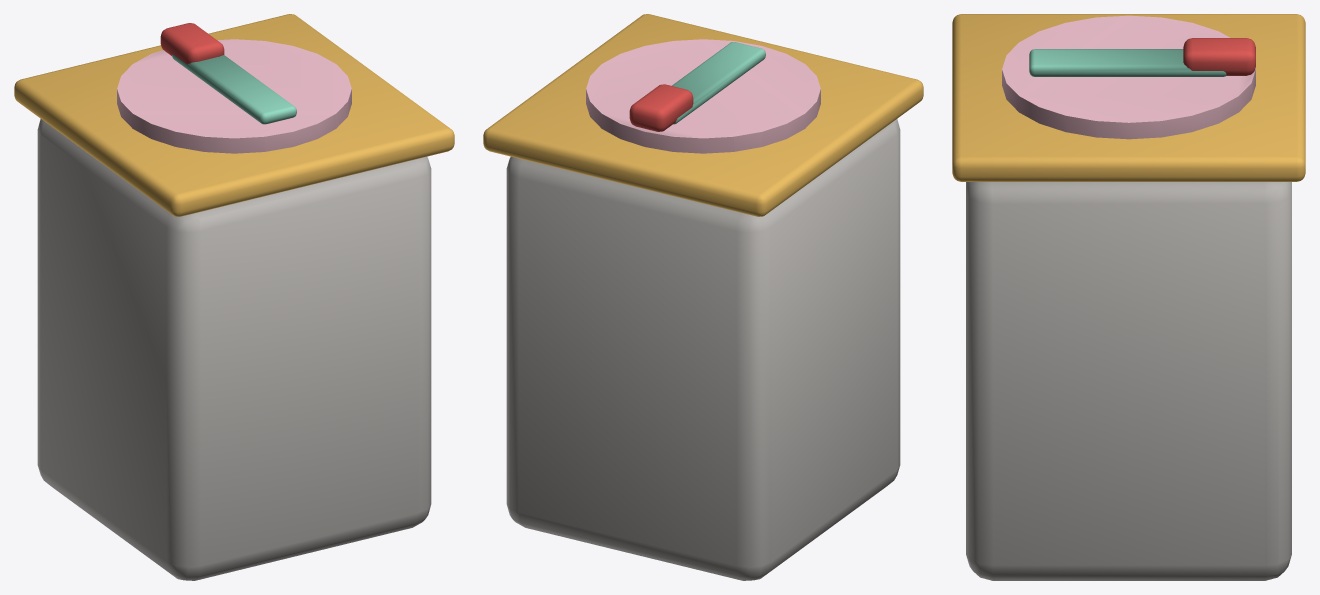
Rendered from gift-leo.glb.
The picture shows the model from 3 angles, left to right: view 1: azimuth 30°, elevation 25°; view 2: azimuth 150°, elevation 25°; view 3: azimuth 270°, elevation 25°; orthographic projection. The views are drawn at different scales.
Visible parts, largest first — view 1: gift-leo; view 2: gift-leo; view 3: gift-leo.
Boxes of the visible parts, x1=… form: gift-leo: x1=14, y1=14, x2=454, y2=580; gift-leo: x1=483, y1=14, x2=923, y2=580; gift-leo: x1=952, y1=14, x2=1305, y2=580.
Bounding box in the file's own units: 0.39 × 0.58 × 0.39.
